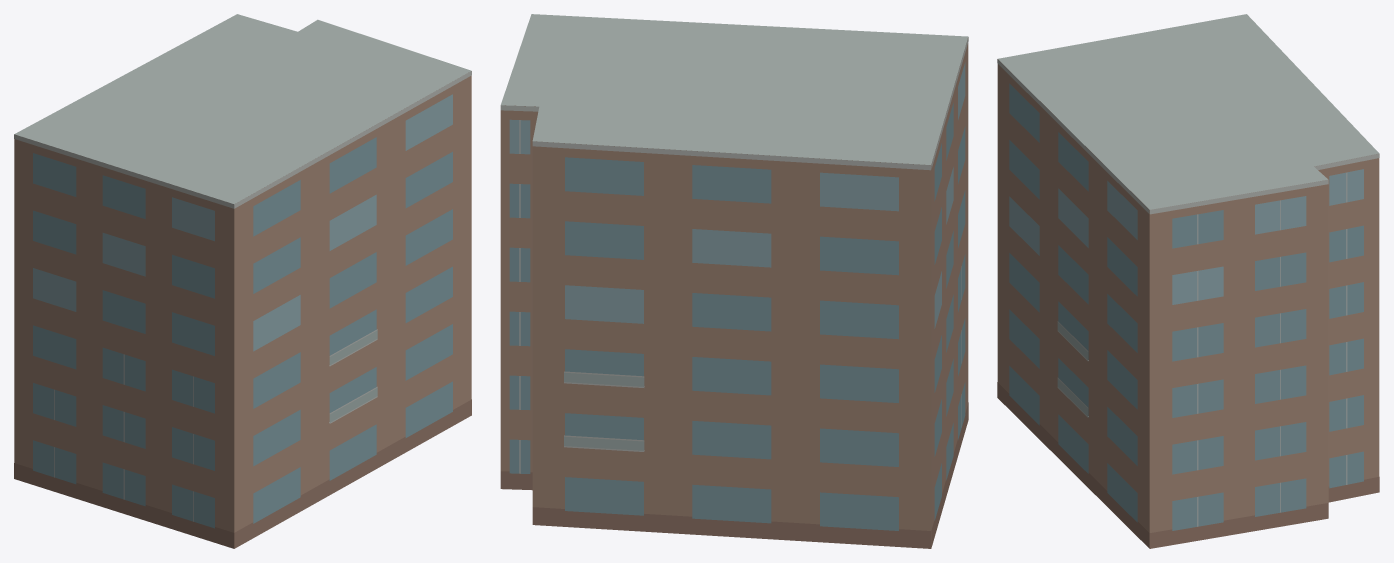
File: survey-upis-32864528.glb
3 renders of one model, left to right at view 1: azimuth 30°, elevation 25°; view 2: azimuth 150°, elevation 25°; view 3: azimuth 270°, elevation 25°, orthographic. The views are drawn at different scales.
Parts seen in each view (by area): view 1: survey-upis-32864528.tmp; view 2: survey-upis-32864528.tmp; view 3: survey-upis-32864528.tmp.
Part boxes in pixels (<box>): survey-upis-32864528.tmp: <box>14,14,471,548</box>; survey-upis-32864528.tmp: <box>500,14,968,548</box>; survey-upis-32864528.tmp: <box>997,14,1379,548</box>.
Size of the model in its own units: 22.7 by 18.3 by 18.7.
